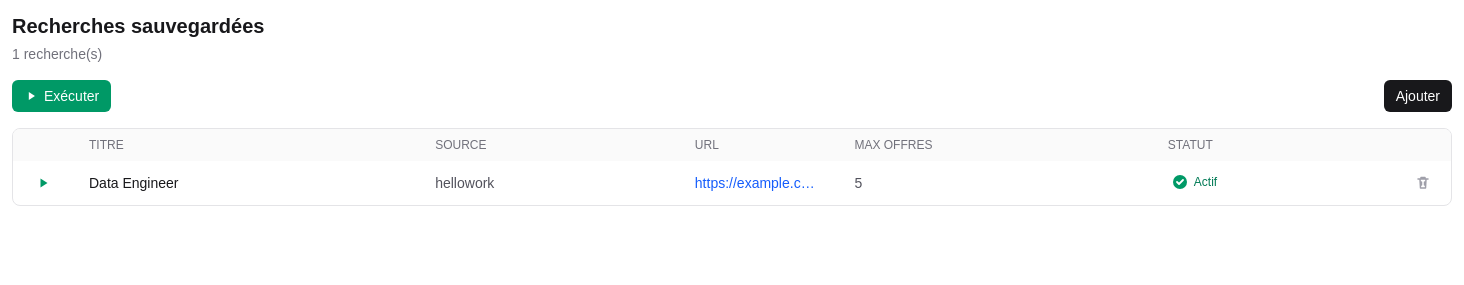
Test case: SearchSettingsBrowser › lance unitairement une recherche via le triangle (résumé avec titre et source)
Expected: the text "Data Engineer" is shown, [73,161,419,205]
Step 1. Click the button named "Lancer la recherche « Data Engineer »" → (43, 183), box [29,169,57,197]
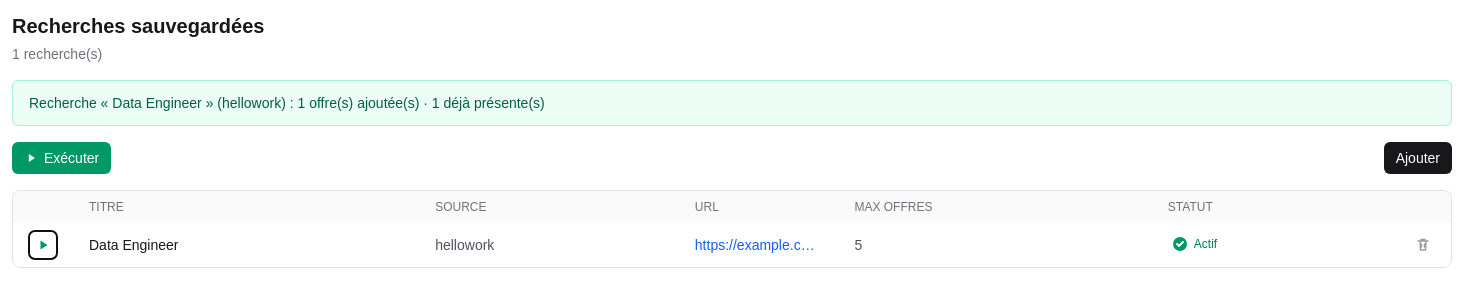
Now the text "Recherche « Data Engineer » (hellowork) : 1 offre(s) ajoutée(s) · 1 déjà présente(s)" is shown, box [12,80,1452,126]
